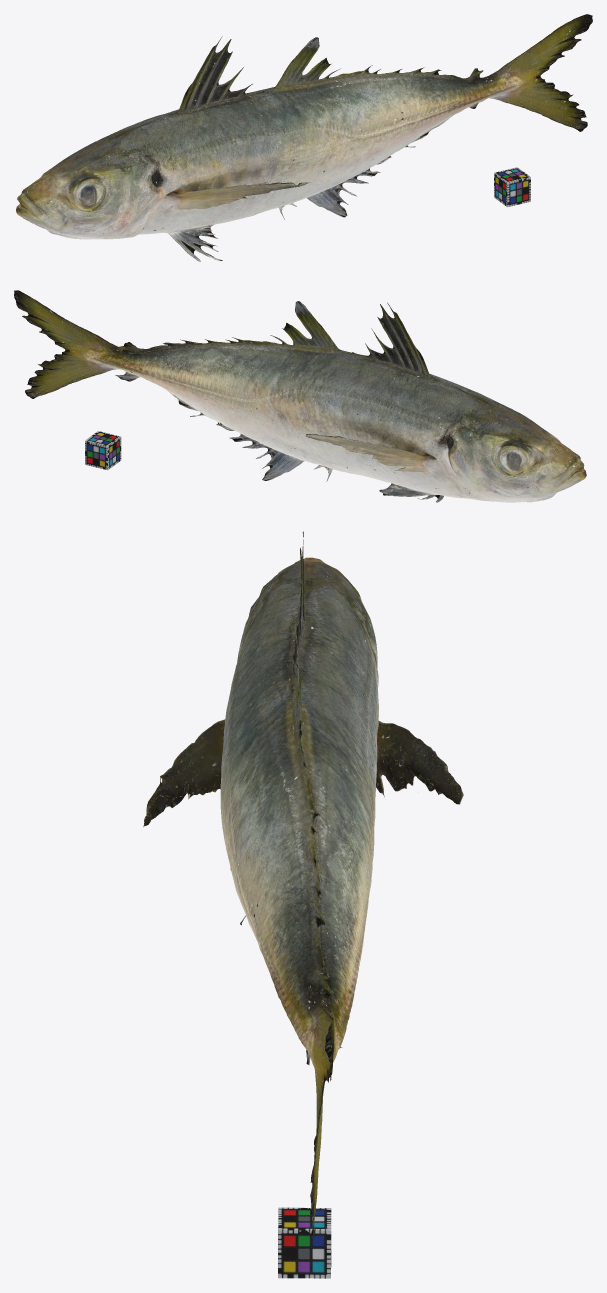
Rendered from scan_scad_japanese.glb.
3 renders of one model, top to bottom at view 1: azimuth 30°, elevation 25°; view 2: azimuth 150°, elevation 25°; view 3: azimuth 270°, elevation 25°, orthographic. The views are drawn at different scales.
Visible parts, largest first — view 1: Object_6, Object_4; view 2: Object_6, Object_4; view 3: Object_6, Object_4.
Boxes of the visible parts, box(x1,y1,x2,y2) form: Object_6: box(16, 14, 592, 261); Object_4: box(494, 167, 530, 207); Object_6: box(14, 290, 586, 502); Object_4: box(85, 431, 121, 470); Object_6: box(143, 531, 463, 1238); Object_4: box(278, 1207, 331, 1278).
Bounding box in the file's own units: 14.81 × 5.67 × 3.59.
Materials: 2 (2 with a texture image).
